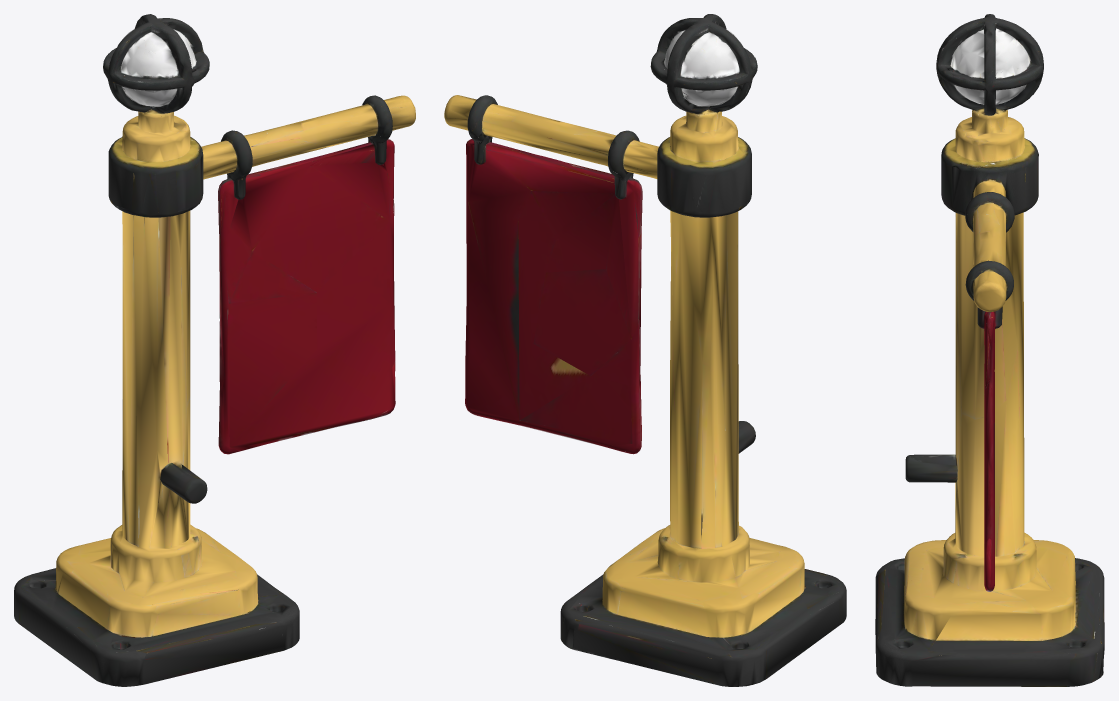
The model's file is flag_v2.glb.
The picture shows the model from 3 angles, left to right: view 1: azimuth 30°, elevation 25°; view 2: azimuth 150°, elevation 25°; view 3: azimuth 270°, elevation 25°; orthographic projection.
Parts seen in each view (by area): view 1: pole_geo, banner_p1, lamp_p2; view 2: pole_geo, banner_p1, lamp_p2; view 3: pole_geo, lamp_p2, banner_p1.
Part boxes in pixels (x1=…): pole_geo: x1=14, y1=95, x2=415, y2=686; banner_p1: x1=229, y1=129, x2=395, y2=452; lamp_p2: x1=103, y1=14, x2=209, y2=117; pole_geo: x1=444, y1=95, x2=846, y2=686; banner_p1: x1=465, y1=134, x2=632, y2=452; lamp_p2: x1=650, y1=14, x2=757, y2=116; pole_geo: x1=875, y1=109, x2=1104, y2=686; lamp_p2: x1=936, y1=14, x2=1043, y2=117; banner_p1: x1=969, y1=227, x2=1010, y2=591.
Bounding box in the file's own units: 2.32 × 3.81 × 1.28.
1 material, 1 textured.
